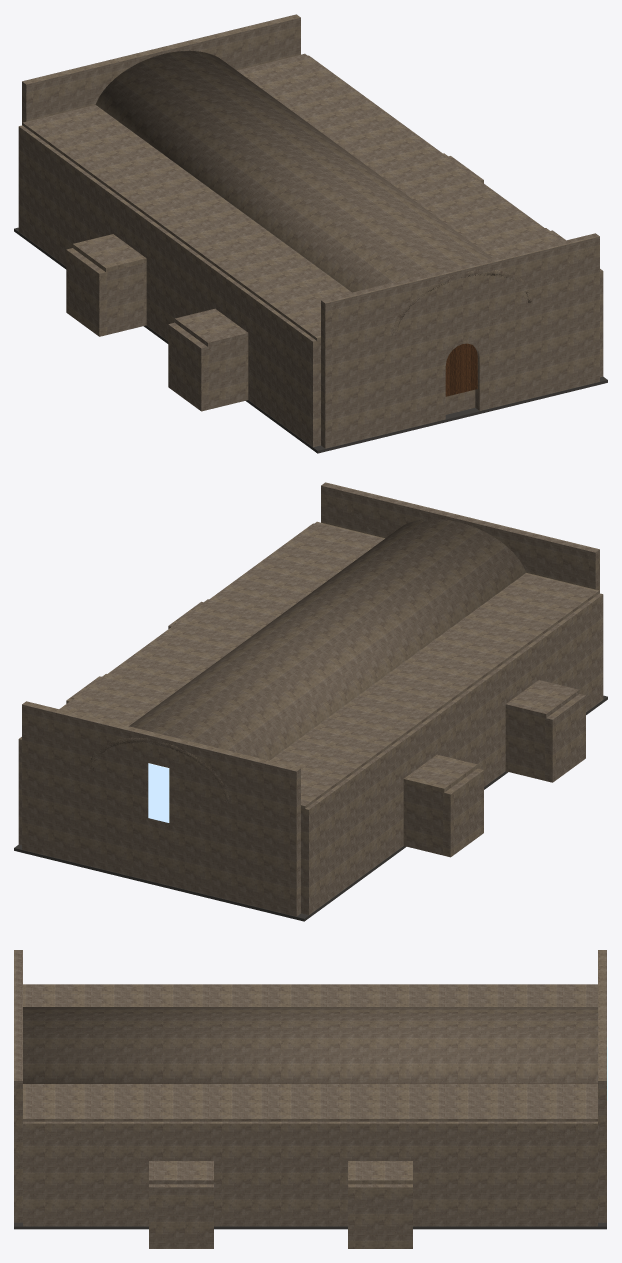
File: great_crypt_hall.glb
The picture shows the model from 3 angles, top to bottom: view 1: azimuth 30°, elevation 25°; view 2: azimuth 150°, elevation 25°; view 3: azimuth 270°, elevation 25°; orthographic projection. The views are drawn at different scales.
Parts seen in each view (by area): view 1: great_crypt_hall; view 2: great_crypt_hall; view 3: great_crypt_hall.
Boxes of the visible parts, x1,y1,x2,y2 form: great_crypt_hall: [14, 14, 607, 453]; great_crypt_hall: [14, 482, 607, 921]; great_crypt_hall: [14, 950, 607, 1248].
Size of the model in its own units: 29.4 by 10.82 by 40.27.
10 materials, 8 textured.
